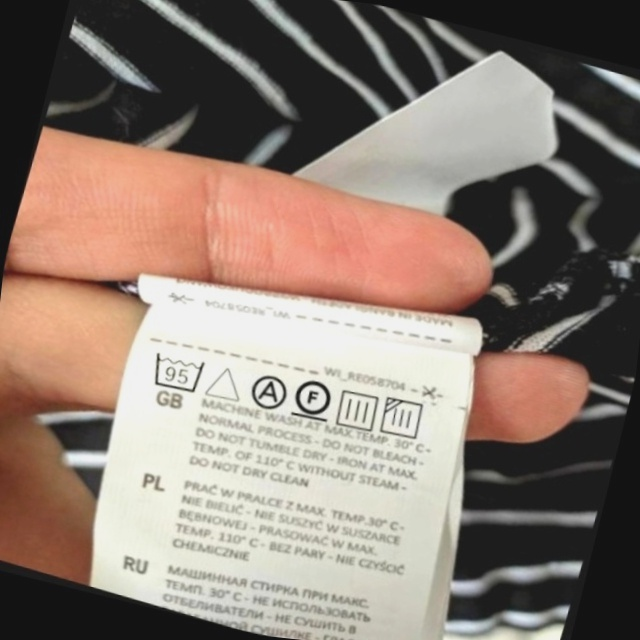95C: (144, 343, 213, 401)
bleach: (201, 356, 249, 409)
drip_dry: (329, 381, 387, 438)
drip_dry_in_shade: (375, 390, 434, 448)
dry_clean: (243, 367, 293, 416)
dry_clean_petrol_only: (287, 369, 341, 428)
